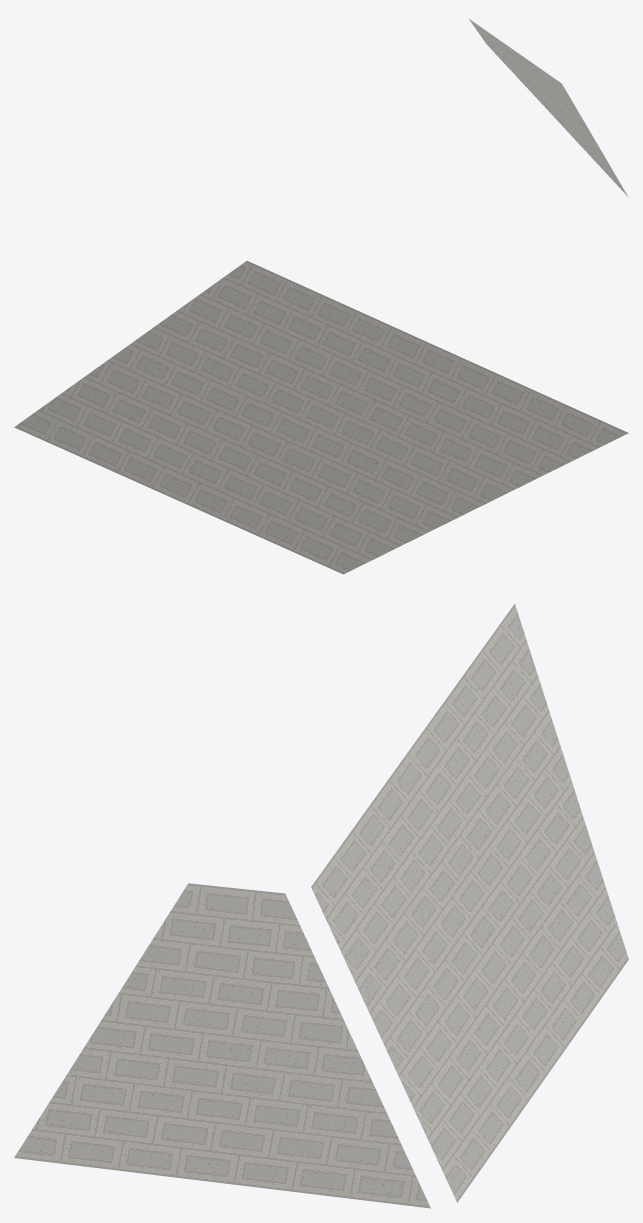
The model's file is kd_stage_1363c5_4_24.glb.
The picture shows the model from 3 angles, top to bottom: view 1: azimuth 30°, elevation 25°; view 2: azimuth 150°, elevation 25°; view 3: azimuth 270°, elevation 25°; orthographic projection. The views are drawn at different scales.
Visible parts, largest first — view 1: kd_stage_1363c5_4_24; view 2: kd_stage_1363c5_4_24; view 3: kd_stage_1363c5_4_24.
Part boxes in pixels (x1,y1,x2,y2): kd_stage_1363c5_4_24: (468,18,627,196); kd_stage_1363c5_4_24: (14,261,628,574); kd_stage_1363c5_4_24: (14,603,628,1208).
Size of the model in its own units: 81.56 by 20.07 by 53.48.
1 material, 1 textured.
